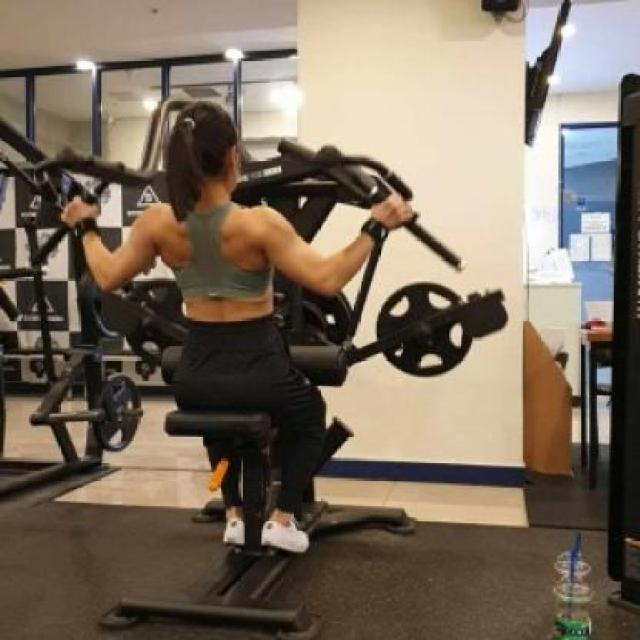lateral raises machine: (32, 145, 510, 544)
